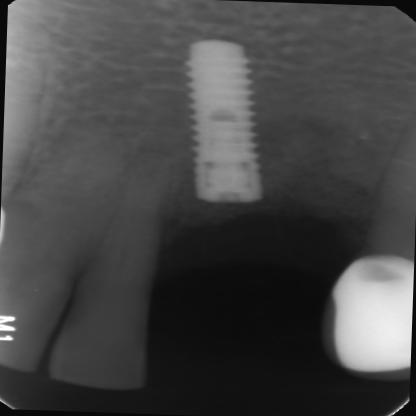ITI: (182, 40, 267, 205)
